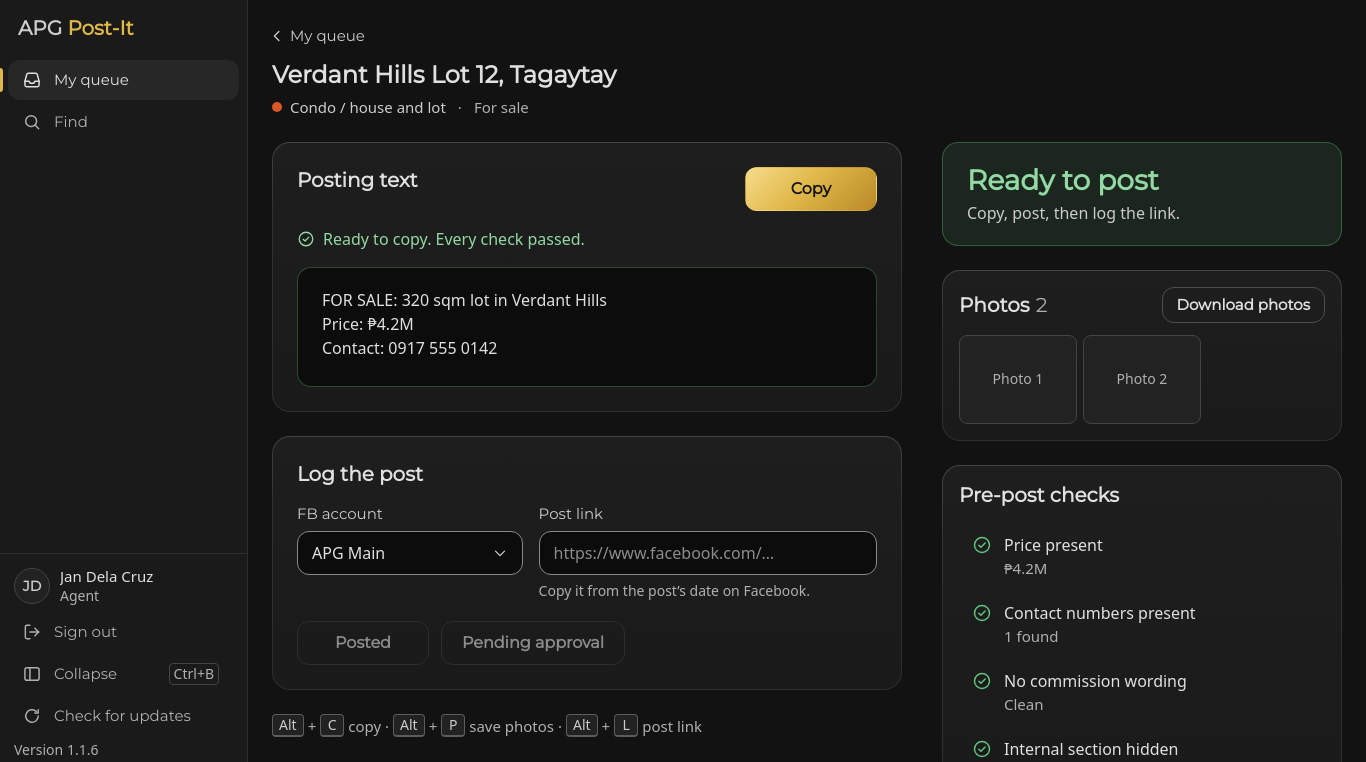
Scenario: the log step › goes back to the queue when nothing is left in it
Type "https://www.facebook.com/groups/apgmain/posts/1029384801/" into the field labelled "Post link" at (708, 553), box 539,531 -> 877,575
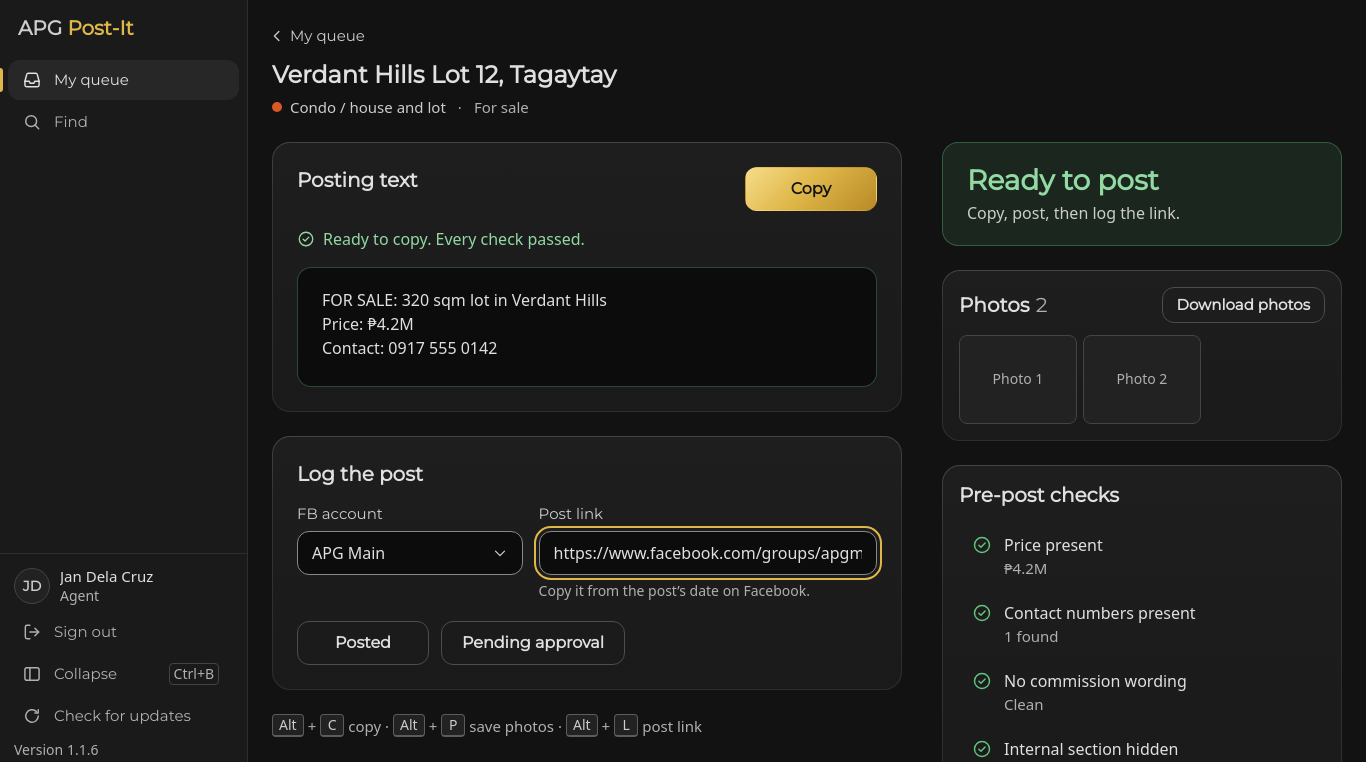
Click the button "Posted" at (363, 643), box 297,621 -> 429,665
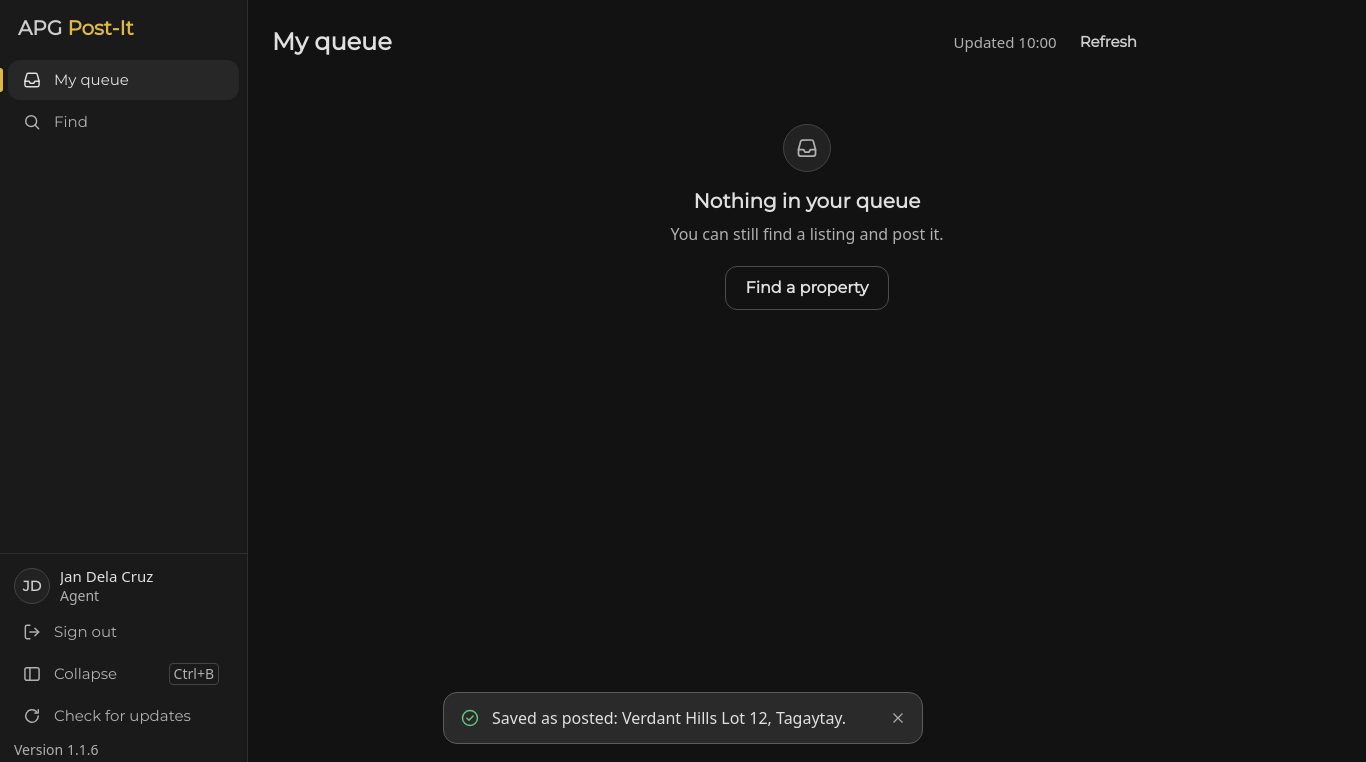
Result: the heading "My queue" is shown at 272,27 -> 392,57
